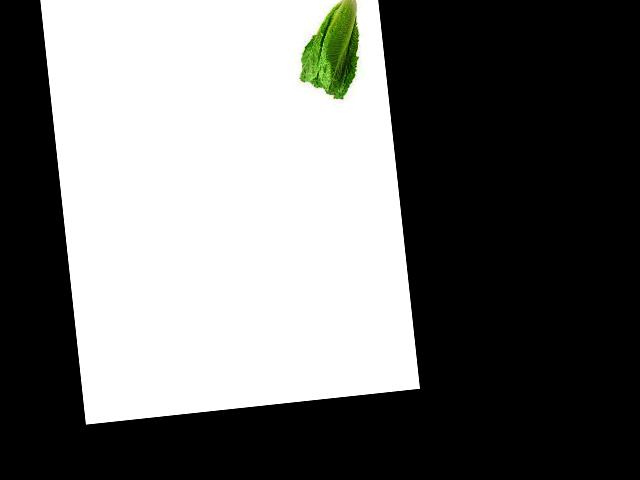lettuce: (286, 2, 388, 119)
